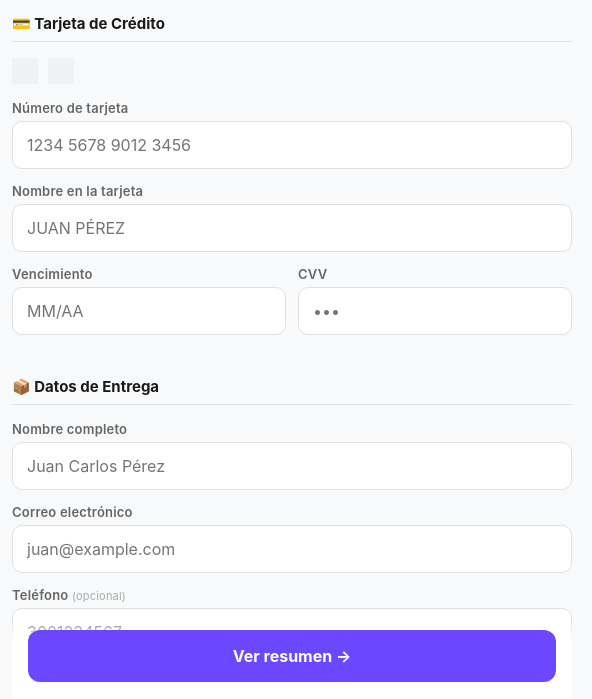
CreditCardForm › shows required-field error messages when submitted empty
Click the button "Ver resumen →": (292, 656) [28,630,556,682]
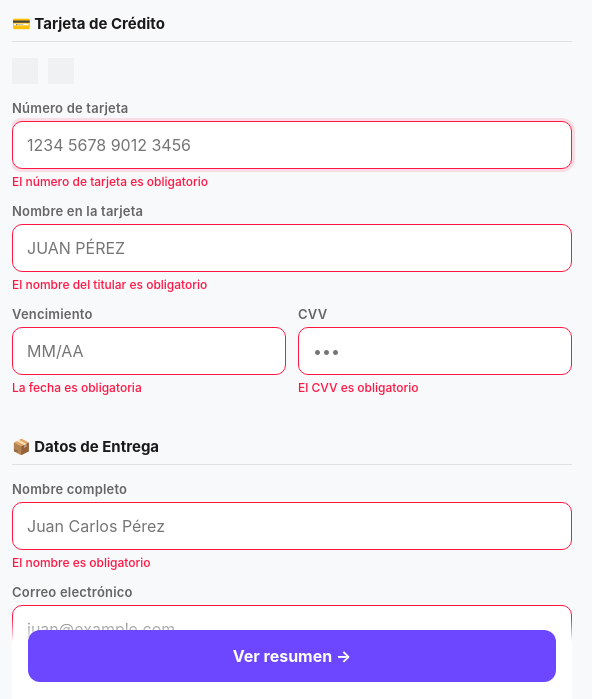
Check: the text "El número de tarjeta es obligatorio" is shown, box [12,174,208,189]
Check: the text "El nombre del titular es obligatorio" is shown, box [12,277,207,292]
